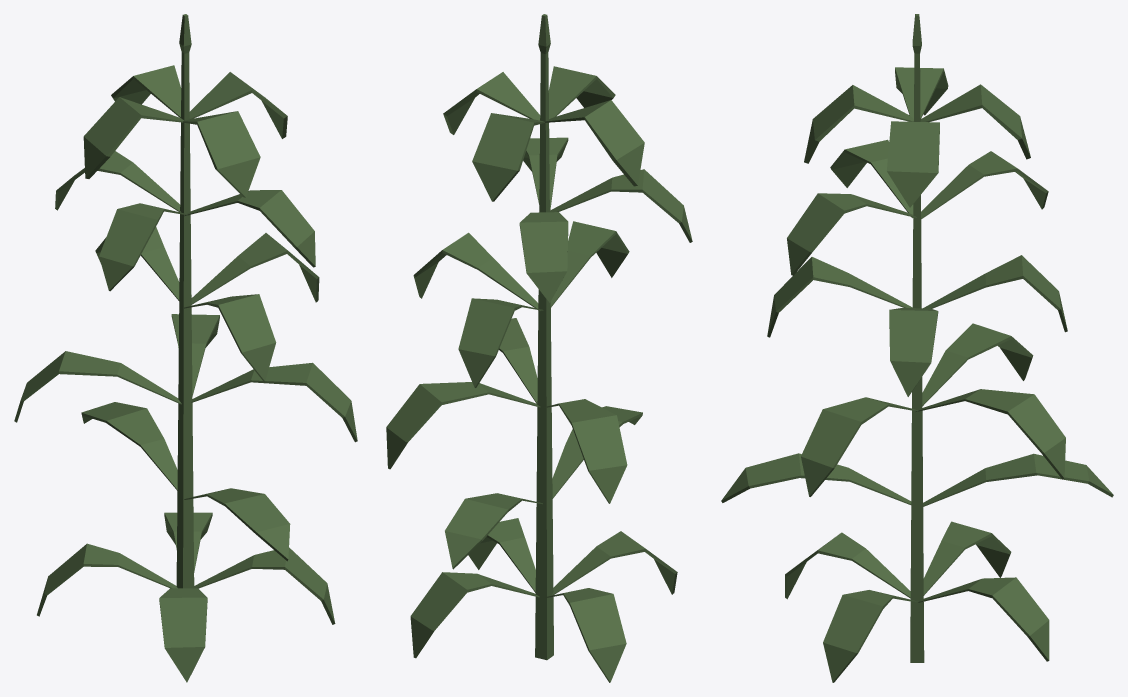
File: Corn_1.glb
The picture shows the model from 3 angles, left to right: view 1: azimuth 30°, elevation 25°; view 2: azimuth 150°, elevation 25°; view 3: azimuth 270°, elevation 25°; orthographic projection.
Parts seen in each view (by area): view 1: Corn_1; view 2: Corn_1; view 3: Corn_1.
Part boxes in pixels (bbox=[...]): Corn_1: bbox=[14, 14, 357, 682]; Corn_1: bbox=[386, 14, 692, 682]; Corn_1: bbox=[721, 14, 1113, 682].
Bounding box in the file's own units: 0.8237 × 1.98 × 1.09.
